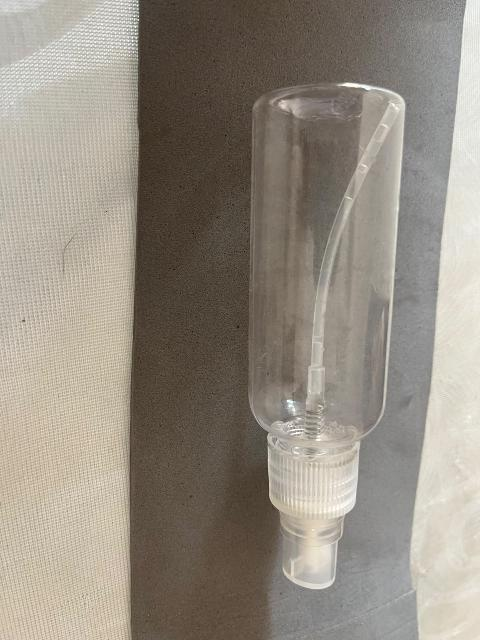PET: (223, 60, 420, 599)
